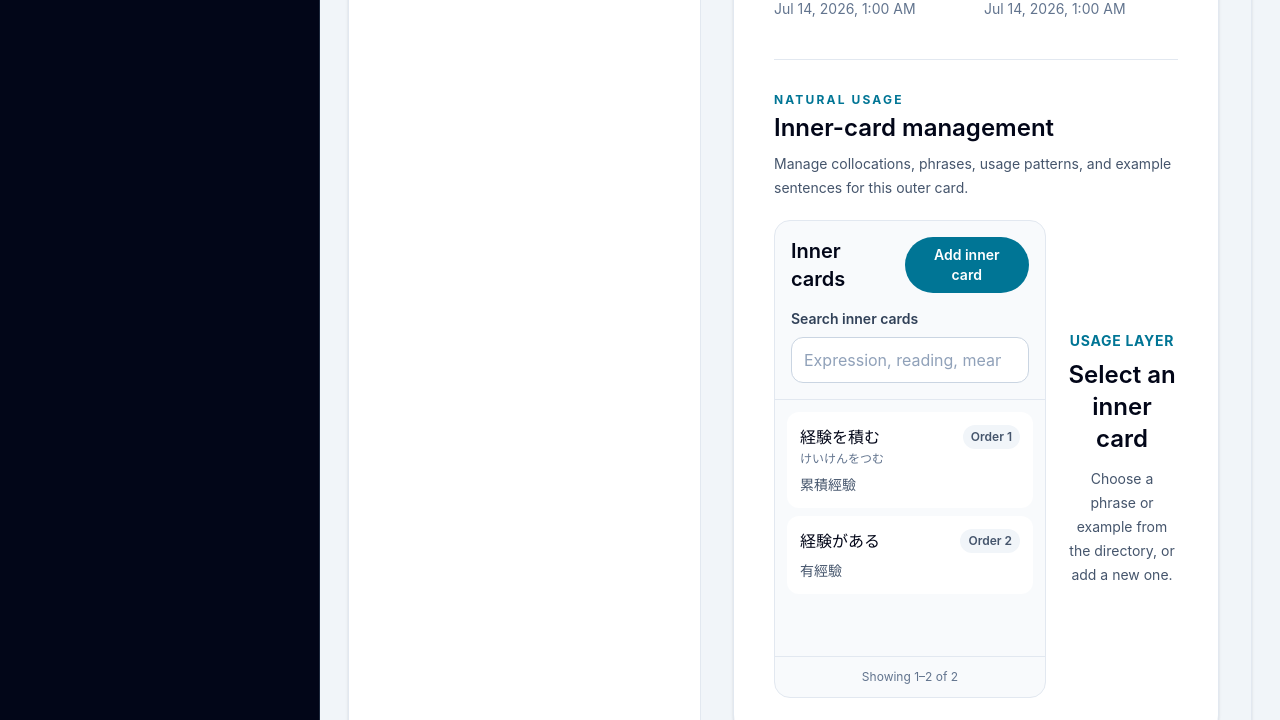
Scenario: inner-card directory and parent scope › debounces backend search and displays empty search results
(page scrolled)
Expected: the link "経験を積む けいけんをつむ Order 1 累積經驗" is shown, x1=787 y1=412 x2=1033 y2=508
Type "missing" into the search field labelled "Search inner cards" at (910, 360), box x1=791 y1=337 x2=1029 y2=383
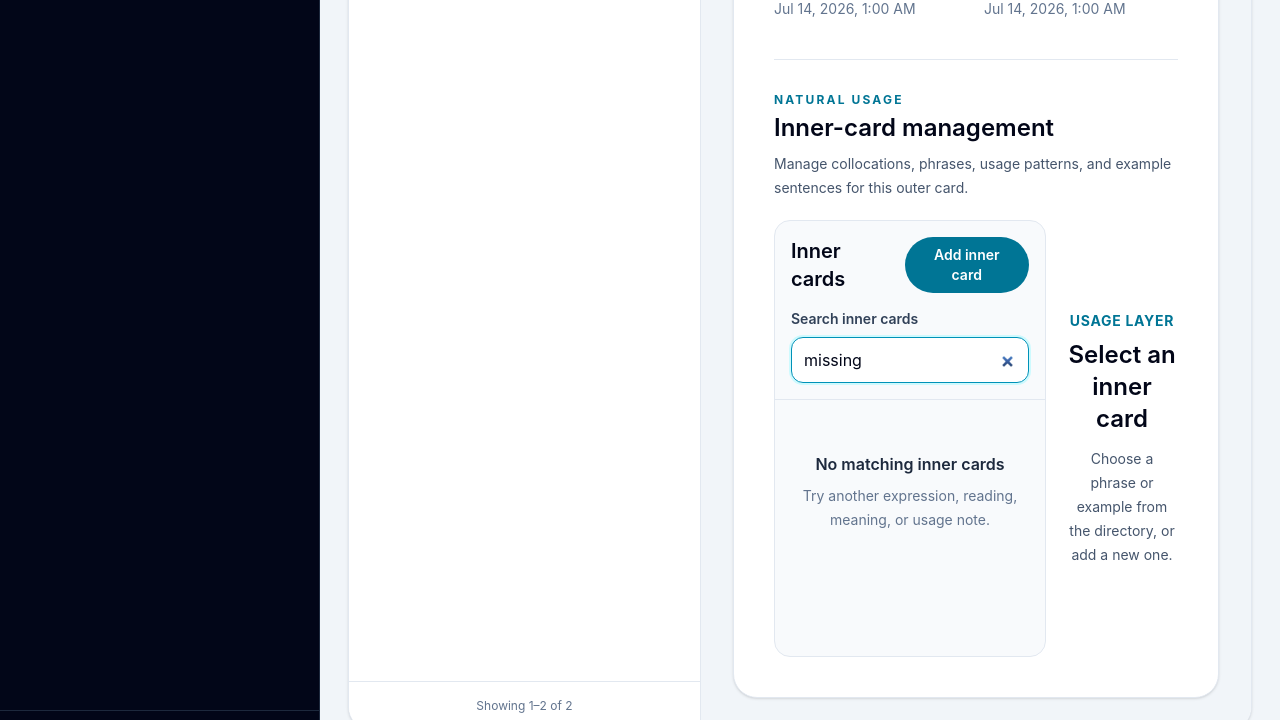
Expected: the text "No matching inner cards" is shown, x1=799 y1=452 x2=1021 y2=476
